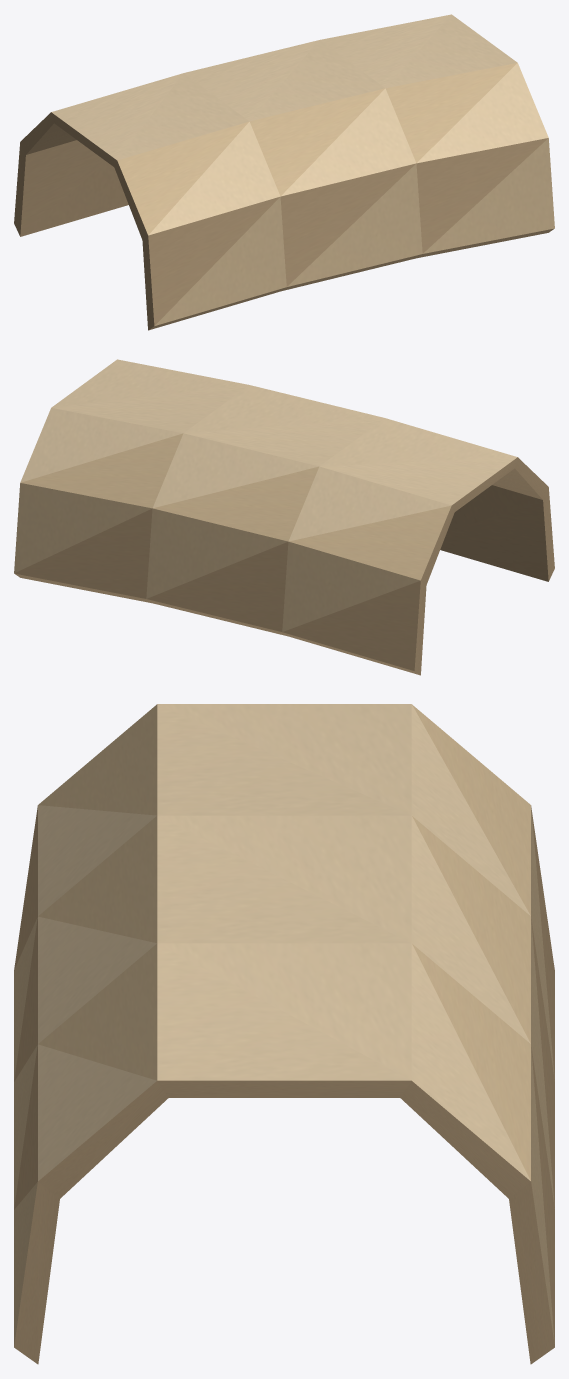
Rendered from 05b_boat_canopy.obj.
3 views of the same model, one above another, from view 1: azimuth 30°, elevation 25°; view 2: azimuth 150°, elevation 25°; view 3: azimuth 270°, elevation 25° (orthographic). The views are drawn at different scales.
Visible parts, largest first — view 1: Boat_Canopy; view 2: Boat_Canopy; view 3: Boat_Canopy.
Part boxes in pixels (x1,y1,x2,y2): Boat_Canopy: [14, 14, 554, 330]; Boat_Canopy: [14, 359, 554, 675]; Boat_Canopy: [14, 704, 554, 1364].
Bounding box in the file's own units: 1.12 × 0.412 × 0.68.
1 material, 1 textured.
